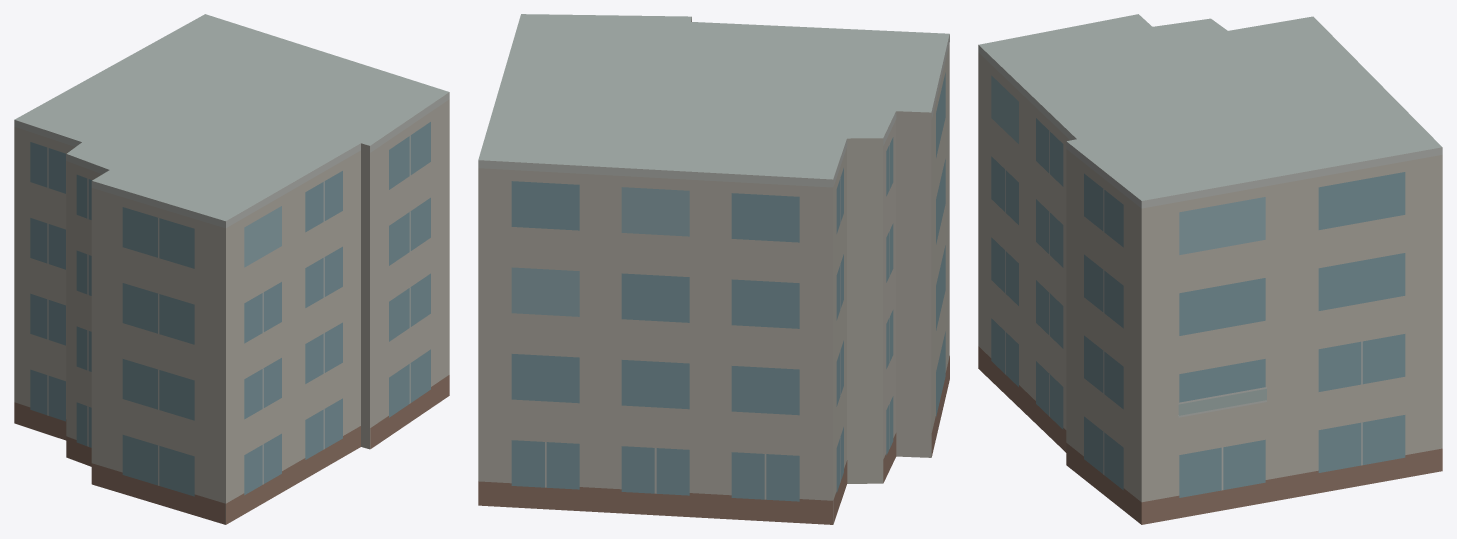
The model's file is survey-upis-32842235.glb.
3 views of the same model, side by side, from view 1: azimuth 30°, elevation 25°; view 2: azimuth 150°, elevation 25°; view 3: azimuth 270°, elevation 25° (orthographic). The views are drawn at different scales.
Parts seen in each view (by area): view 1: survey-upis-32842235.tmp; view 2: survey-upis-32842235.tmp; view 3: survey-upis-32842235.tmp.
Boxes of the visible parts, <box> form: survey-upis-32842235.tmp: <box>14,14,449,524</box>; survey-upis-32842235.tmp: <box>478,14,949,524</box>; survey-upis-32842235.tmp: <box>978,14,1442,524</box>.
Bounding box in the file's own units: 13.01 × 10.5 × 13.65.
